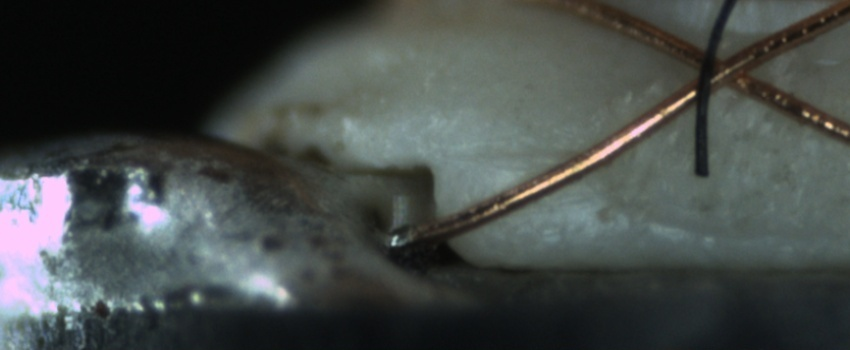CL: (682, 37, 778, 102)
DL: (455, 124, 607, 188)
TS: (386, 228, 421, 254)
